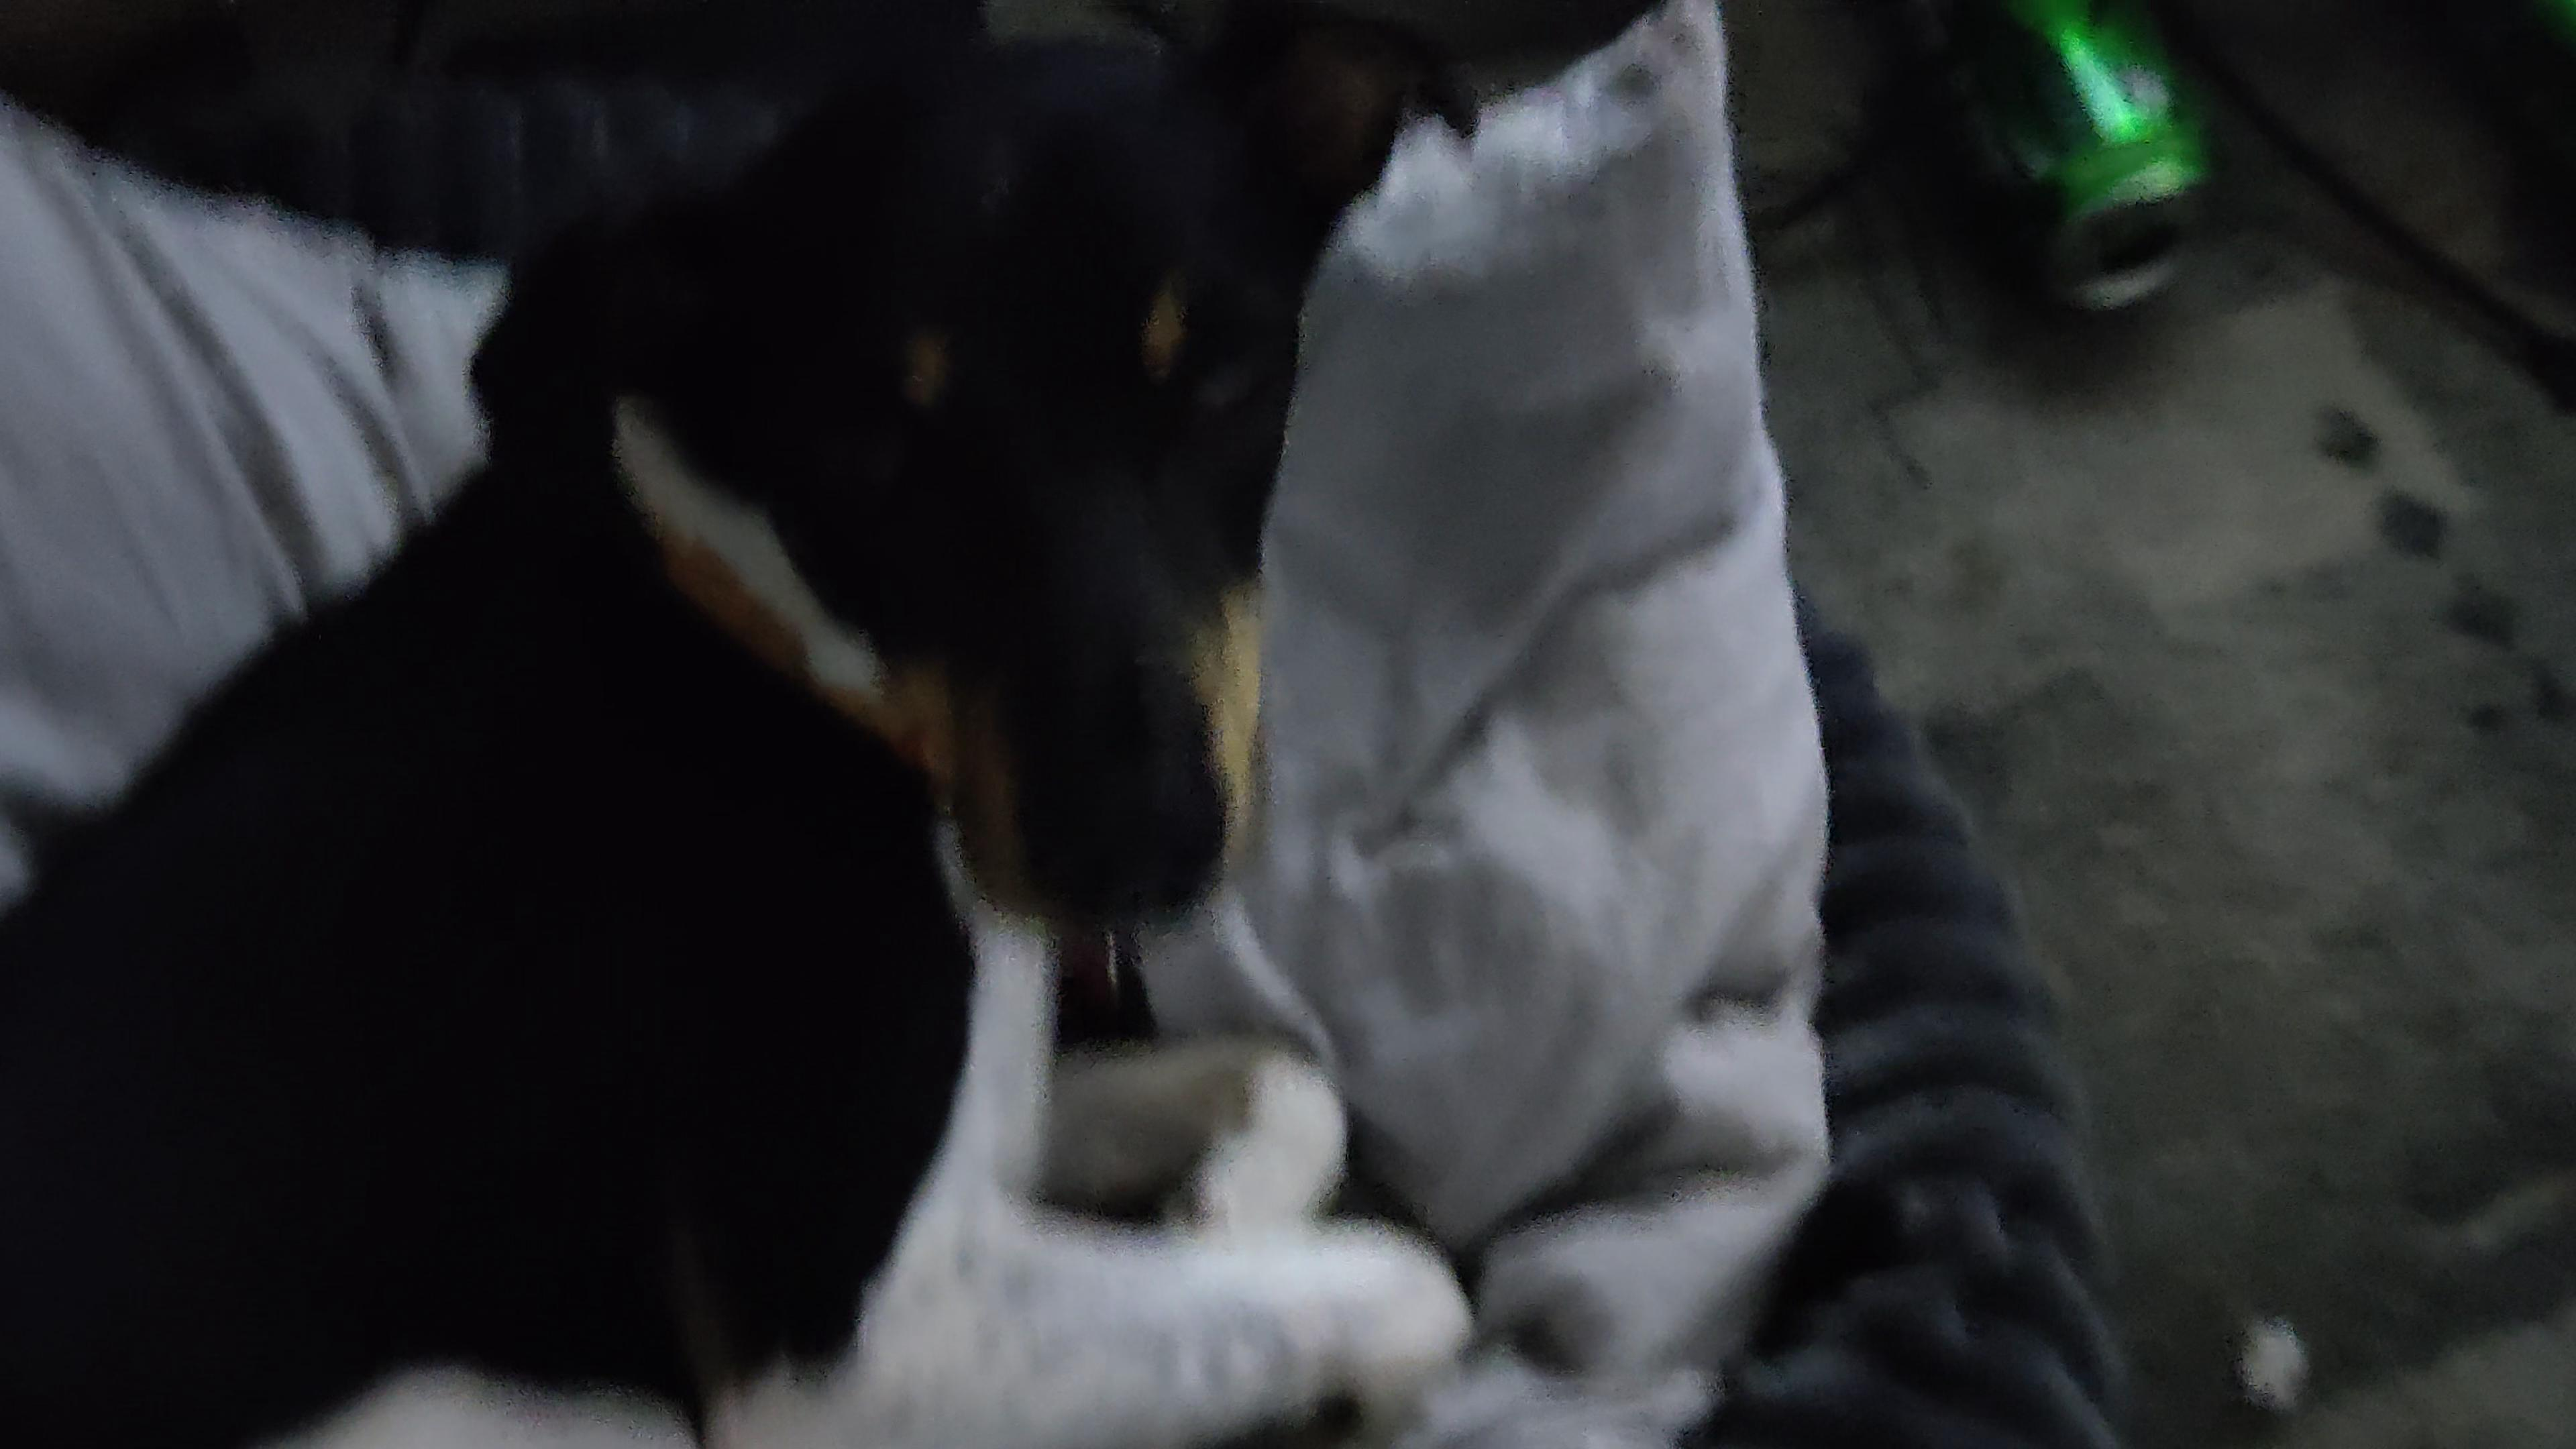Dog: (0, 0, 1534, 1449)
